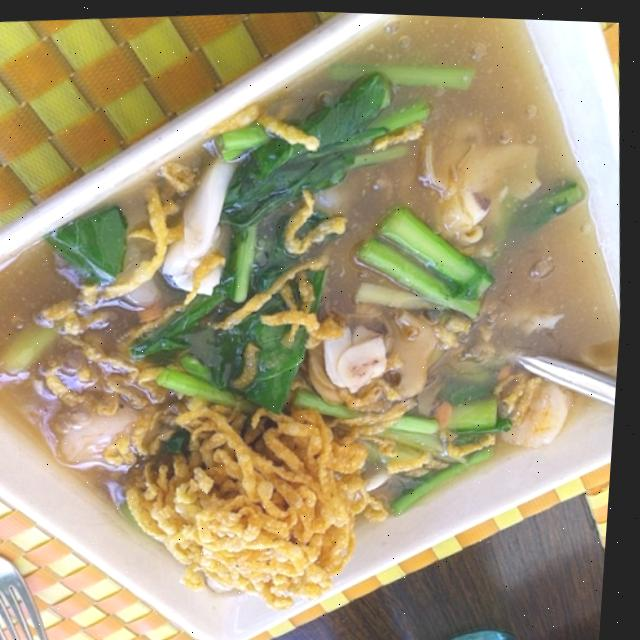面条主食: (0, 6, 638, 632)
